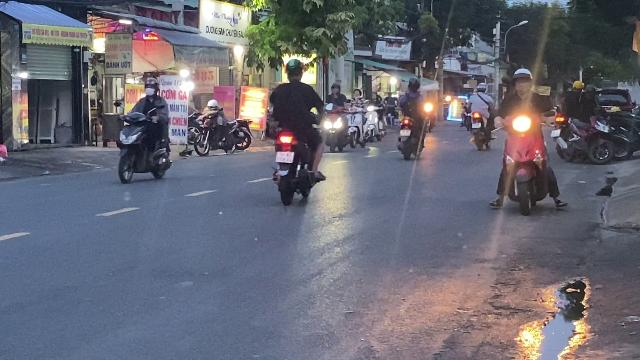helmet: (512, 68, 534, 92), (284, 57, 304, 81), (143, 78, 159, 96)
licenseplate: (274, 151, 294, 163)
motorcyclist: (492, 67, 560, 213), (266, 57, 326, 205), (114, 76, 174, 184)
